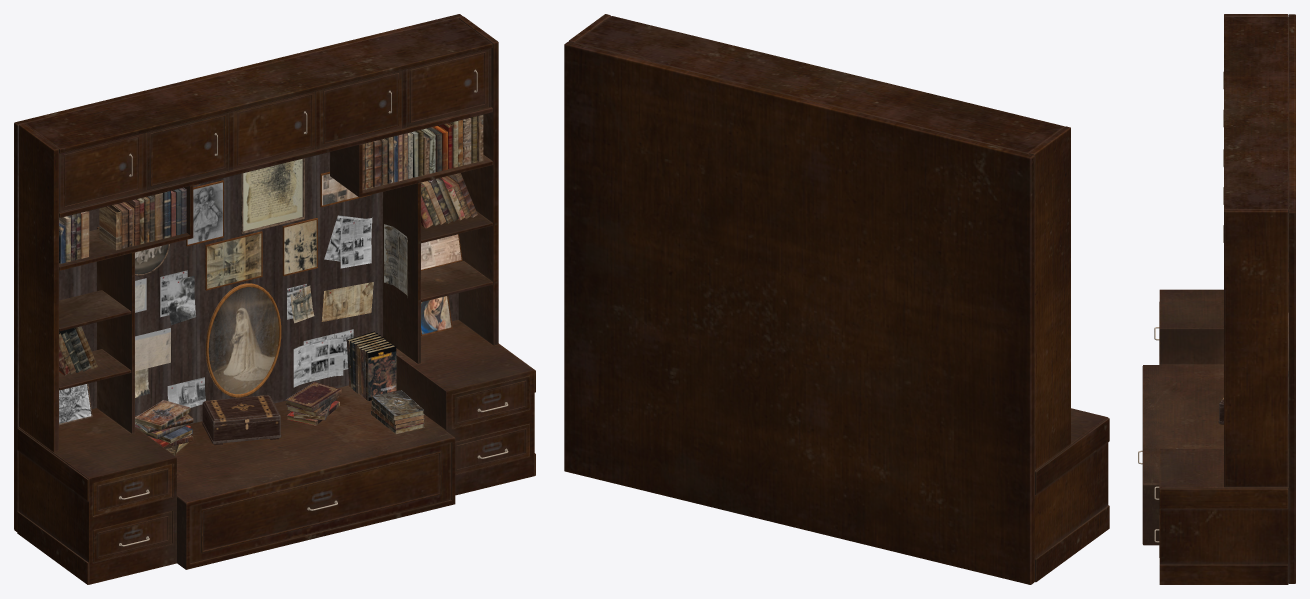
The model's file is book_shelf.glb.
3 renders of one model, left to right at view 1: azimuth 30°, elevation 25°; view 2: azimuth 150°, elevation 25°; view 3: azimuth 270°, elevation 25°, orthographic. The views are drawn at different scales.
Parts seen in each view (by area): view 1: XI_AR_Book_Shelf.Shape; view 2: XI_AR_Book_Shelf.Shape; view 3: XI_AR_Book_Shelf.Shape.
Part boxes in pixels (bbox=[...]): XI_AR_Book_Shelf.Shape: bbox=[14, 14, 535, 584]; XI_AR_Book_Shelf.Shape: bbox=[564, 14, 1109, 584]; XI_AR_Book_Shelf.Shape: bbox=[1138, 14, 1295, 584].
Bounding box in the file's own units: 2.77 × 2.41 × 0.9263.
Materials: 2 (2 with a texture image).
